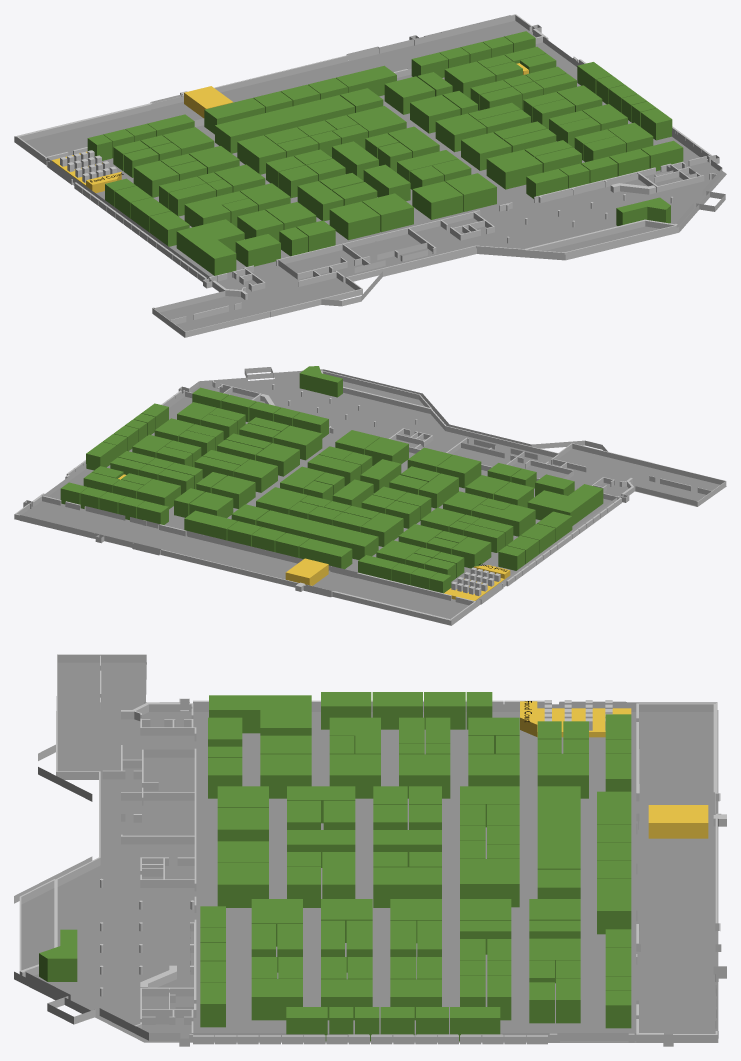
File: Hall_E_3.glb
The picture shows the model from 3 angles, top to bottom: view 1: azimuth 30°, elevation 25°; view 2: azimuth 150°, elevation 25°; view 3: azimuth 270°, elevation 25°; orthographic projection. The views are drawn at different scales.
Visible parts, largest first — view 1: Background_curve_, Building_curve_, BOOTHLAYER_curve_.E-2050, BOOTHLAYER_curve_.E-6000, BOOTHLAYER_curve_.E-6200, BOOTHLAYER_curve_.E-6130, BOOTHLAYER_curve_.E-6100, BOOTHLAYER_curve_.E-5020, BOOTHLAYER_curve_.E-4200, BOOTHLAYER_curve_.E-6120, BOOTHLAYER_curve_.E-6150, BOOTHLAYER_curve_.E-3200 (+64 smaller); view 2: Background_curve_, Building_curve_, BOOTHLAYER_curve_.E-2050, BOOTHLAYER_curve_.E-6000, BOOTHLAYER_curve_.E-5020, BOOTHLAYER_curve_.E-1030, BOOTHLAYER_curve_.E-6200, BOOTHLAYER_curve_.E-1060, BOOTHLAYER_curve_.E-7000, BOOTHLAYER_curve_.E-4200, BOOTHLAYER_curve_.E-3200, BOOTHLAYER_curve_.E-3100 (+59 smaller); view 3: Background_curve_, Building_curve_, BOOTHLAYER_curve_.E-2050, BOOTHLAYER_curve_.E-6000, BOOTHLAYER_curve_.E-3150, BOOTHLAYER_curve_.E-4180, BOOTHLAYER_curve_.E-6150, Logistics, BOOTHLAYER_curve_.E-6270, BOOTHLAYER_curve_.E-5060, BOOTHLAYER_curve_.E-6050, BOOTHLAYER_curve_.E-2020 (+68 smaller).
Part boxes in pixels (x1=…): Background_curve_: x1=14, y1=20, x2=726, y2=337; Building_curve_: x1=14, y1=14, x2=725, y2=337; BOOTHLAYER_curve_.E-2050: x1=215, y1=95, x2=354, y2=153; BOOTHLAYER_curve_.E-6000: x1=176, y1=219, x2=244, y2=275; BOOTHLAYER_curve_.E-6200: x1=486, y1=149, x2=542, y2=189; BOOTHLAYER_curve_.E-6130: x1=412, y1=181, x2=463, y2=219; BOOTHLAYER_curve_.E-6100: x1=329, y1=201, x2=380, y2=240; BOOTHLAYER_curve_.E-5020: x1=184, y1=191, x2=248, y2=227; BOOTHLAYER_curve_.E-4200: x1=435, y1=113, x2=486, y2=152; BOOTHLAYER_curve_.E-6120: x1=362, y1=193, x2=413, y2=232; BOOTHLAYER_curve_.E-6150: x1=445, y1=173, x2=496, y2=211; BOOTHLAYER_curve_.E-3200: x1=410, y1=95, x2=460, y2=133; Background_curve_: x1=15, y1=378, x2=726, y2=625; Building_curve_: x1=14, y1=367, x2=726, y2=625; BOOTHLAYER_curve_.E-2050: x1=256, y1=510, x2=378, y2=559; BOOTHLAYER_curve_.E-6000: x1=527, y1=484, x2=603, y2=525; BOOTHLAYER_curve_.E-5020: x1=471, y1=504, x2=535, y2=536; BOOTHLAYER_curve_.E-1030: x1=299, y1=538, x2=352, y2=569; BOOTHLAYER_curve_.E-6200: x1=273, y1=425, x2=322, y2=460; BOOTHLAYER_curve_.E-1060: x1=184, y1=510, x2=237, y2=540; BOOTHLAYER_curve_.E-7000: x1=299, y1=366, x2=342, y2=397; BOOTHLAYER_curve_.E-4200: x1=233, y1=459, x2=277, y2=492; BOOTHLAYER_curve_.E-3200: x1=211, y1=475, x2=255, y2=508; BOOTHLAYER_curve_.E-3100: x1=361, y1=513, x2=403, y2=546; Background_curve_: x1=21, y1=662, x2=718, y2=1042; Building_curve_: x1=14, y1=654, x2=726, y2=1046; BOOTHLAYER_curve_.E-2050: x1=537, y1=786, x2=580, y2=869; BOOTHLAYER_curve_.E-6000: x1=209, y1=695, x2=311, y2=735; BOOTHLAYER_curve_.E-3150: x1=460, y1=859, x2=519, y2=907; BOOTHLAYER_curve_.E-4180: x1=373, y1=867, x2=441, y2=907; BOOTHLAYER_curve_.E-6150: x1=217, y1=863, x2=268, y2=907; Logistics: x1=648, y1=805, x2=708, y2=838; BOOTHLAYER_curve_.E-6270: x1=251, y1=979, x2=302, y2=1020; BOOTHLAYER_curve_.E-5060: x1=329, y1=754, x2=380, y2=798; BOOTHLAYER_curve_.E-6050: x1=260, y1=754, x2=311, y2=798; BOOTHLAYER_curve_.E-2020: x1=537, y1=753, x2=588, y2=798.
Bounding box in the file's own units: 106 × 3 × 83.28.
